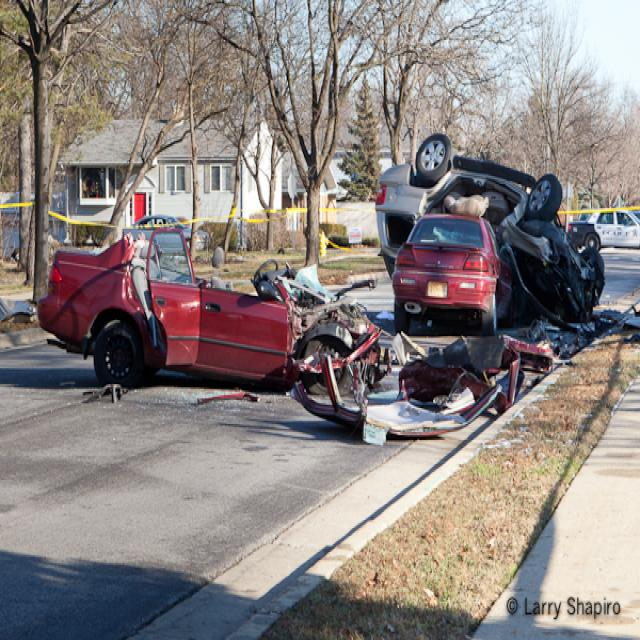crush: (115, 229, 377, 396), (416, 171, 603, 334)
